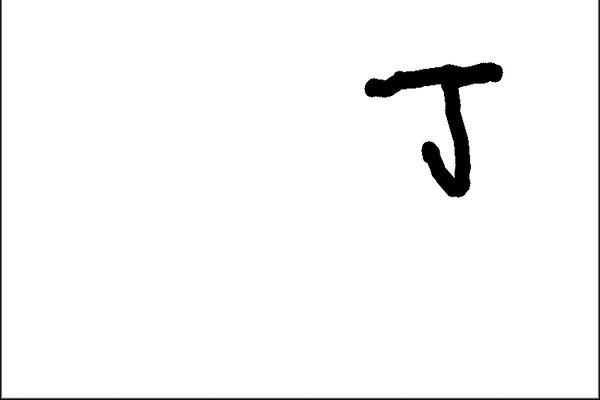J: (361, 57, 509, 203)
